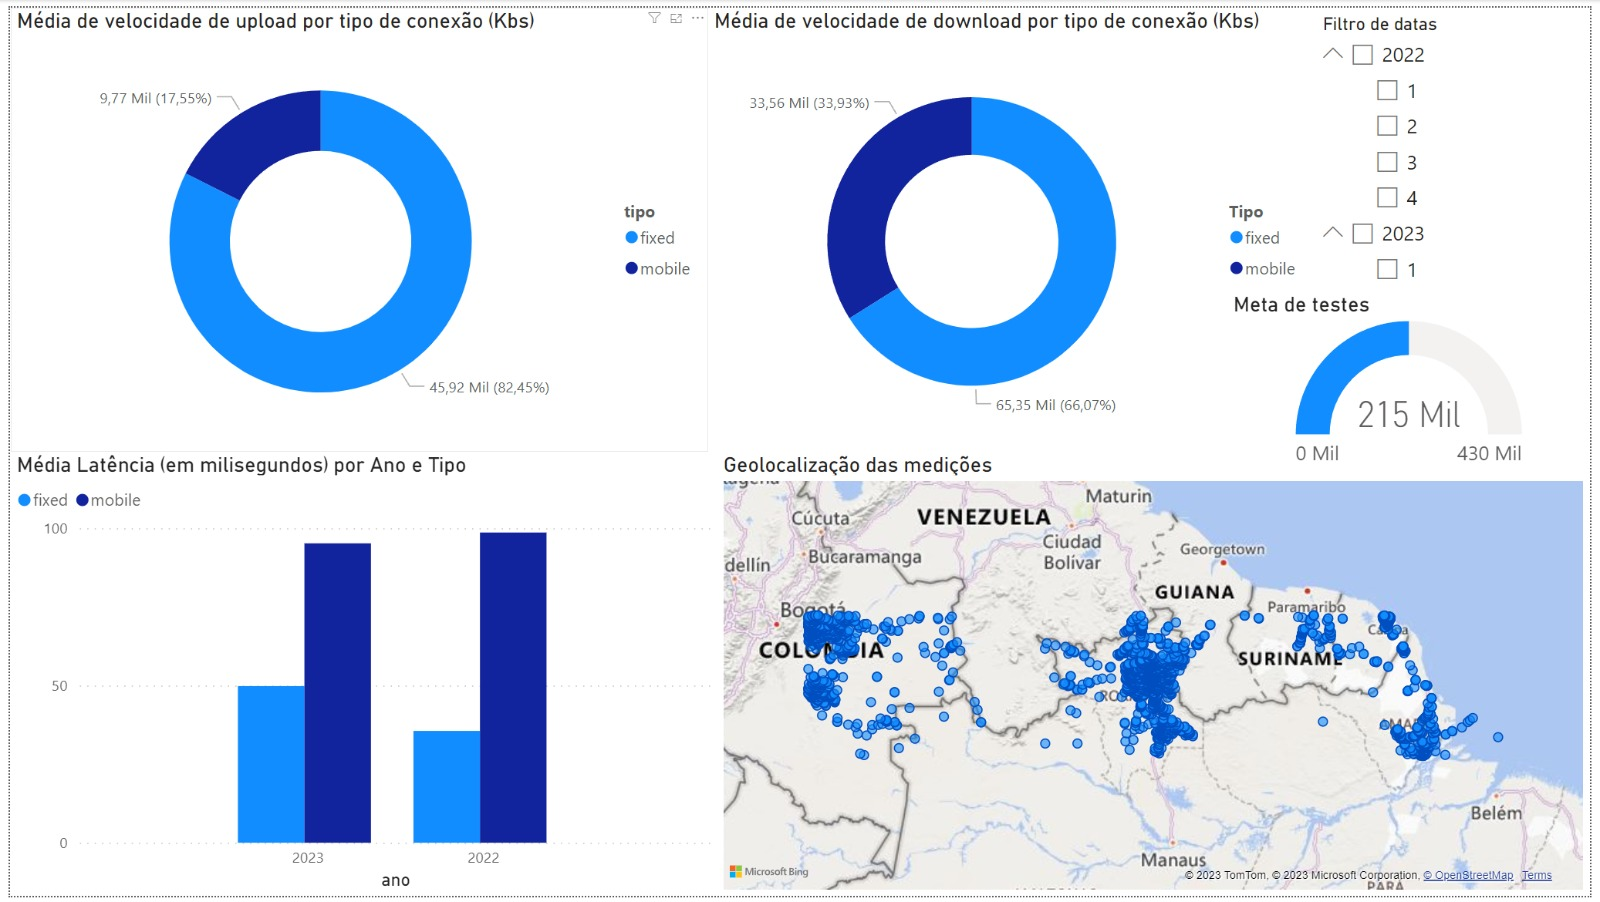

Layout of this report page (visuals, bound fields, positions):
{"tool":"powerbi","page":{"name":"Resultados","canvas":[1280,720],"ordinal":0},"visuals":[{"type":"map","title":"Geolocalização das medições","fields":{"Y":["dim_localizacao.latitude"],"X":["dim_localizacao.longitude"]},"box":[573.4,360,706.4,360],"z":0},{"type":"donutChart","title":"Média de velocidade de download por tipo de conexão (Kbs)","fields":{"Category":["dim_tipo.tipo"],"Y":["Avg(fato.media_download)"]},"box":[565.4,0,489.9,360],"z":1000},{"type":"clusteredColumnChart","title":"Média Latência (em milisegundos) por Ano e Tipo","fields":{"Y":["Avg(fato.media_latencia)"],"Category":["dim_periodo.ano"],"Series":["dim_tipo.tipo"]},"box":[0.6,360,573.4,360],"z":2000},{"type":"slicer","fields":{"Values":["dim_periodo.ano","dim_periodo.quadrimestre"]},"box":[1050.9,0,228.9,230.1],"z":3000},{"type":"donutChart","title":"Média de velocidade de upload por tipo de conexão (Kbs)","fields":{"Category":["dim_tipo.tipo"],"Y":["Avg(fato.media_upload)"]},"box":[0.6,0,564.7,360],"z":4000},{"type":"actionButton","box":[0,0,100,40],"z":5000},{"type":"gauge","title":"Meta de testes","fields":{"Y":["Sum(fato.testes)"]},"box":[986,230.1,293.8,151.5],"z":5001}]}

Visuals, with their boxes in screenshot pixels (x1, y1, x2, y2), scaled from the page's 1280x720 canvas onto the 1600x902 screenshot:
"Geolocalização das medições" map: locate(717, 451, 1599, 901)
"Média de velocidade de download por tipo de conexão (Kbs)" donutChart: locate(707, 0, 1319, 451)
"Média Latência (em milisegundos) por Ano e Tipo" clusteredColumnChart: locate(1, 451, 718, 901)
slicer - dim_periodo.ano x dim_periodo.quadrimestre: locate(1314, 0, 1599, 288)
"Média de velocidade de upload por tipo de conexão (Kbs)" donutChart: locate(1, 0, 707, 451)
actionButton: locate(0, 0, 125, 50)
"Meta de testes" gauge: locate(1232, 288, 1599, 478)
